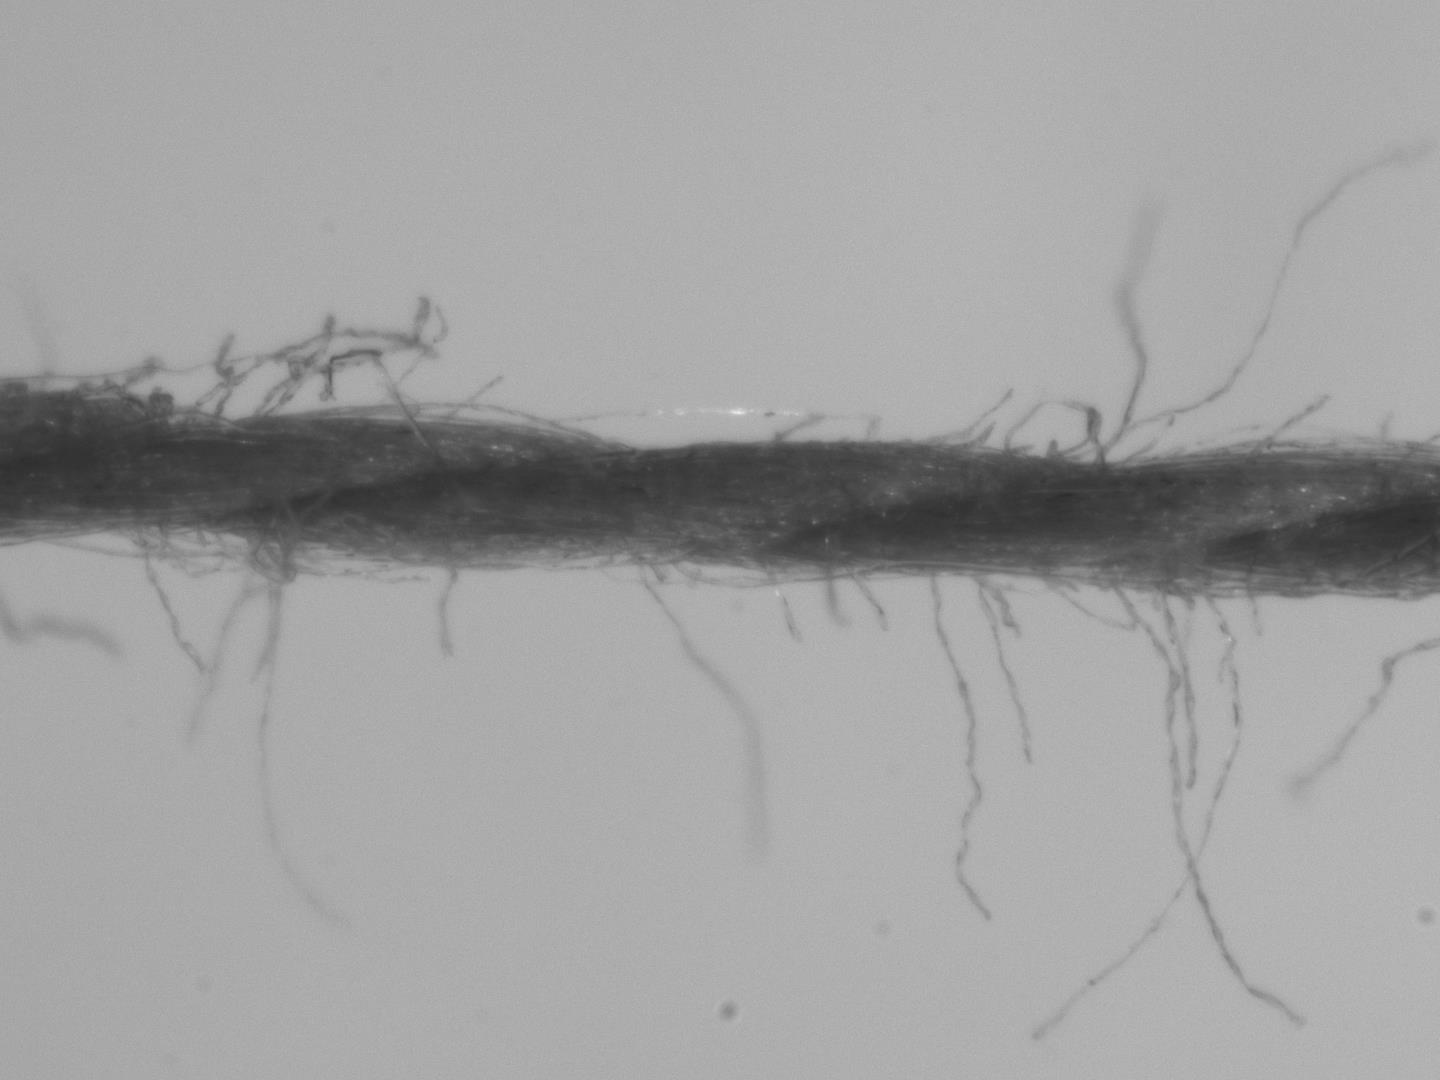loop_fiber: (998, 394, 1100, 464)
protruding_fiber: (1025, 589, 1254, 1047), (924, 571, 1005, 930), (422, 554, 465, 663)
